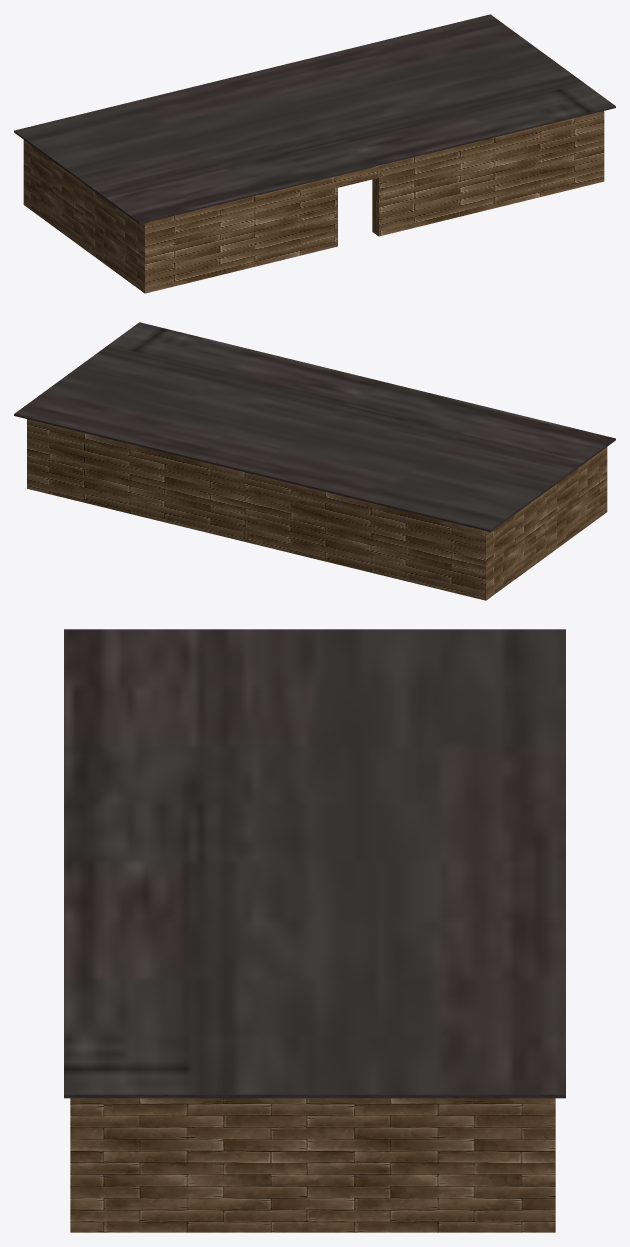
The model's file is casinhamolde.glb.
3 views of the same model, one above another, from view 1: azimuth 30°, elevation 25°; view 2: azimuth 150°, elevation 25°; view 3: azimuth 270°, elevation 25° (orthographic). The views are drawn at different scales.
Parts seen in each view (by area): view 1: teto.001, Cube.001; view 2: teto.001, Cube.001; view 3: teto.001, Cube.001.
Part boxes in pixels (x1,y1,x2,y2): teto.001: (14, 14, 615, 224); Cube.001: (23, 111, 604, 293); teto.001: (14, 322, 615, 531); Cube.001: (27, 419, 607, 600); teto.001: (64, 629, 565, 1098); Cube.001: (70, 1098, 555, 1232).
Size of the model in its own units: 21 by 3.12 by 9.57.
2 materials, 2 textured.
